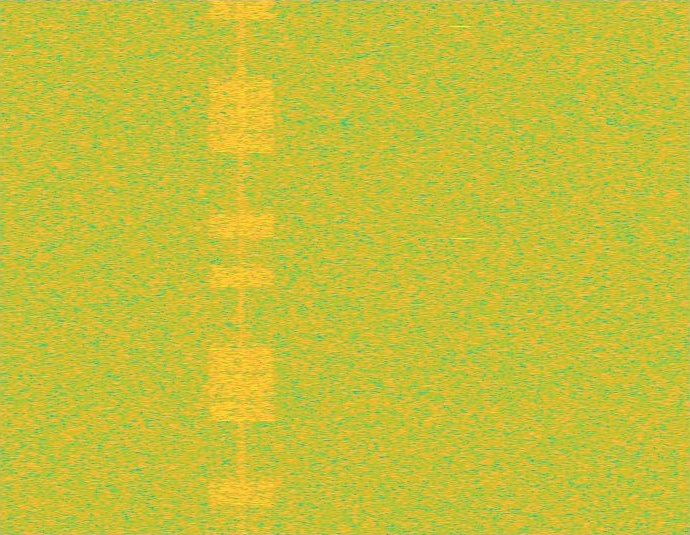DSSS: (237, 0, 246, 534)
LTE: (207, 0, 276, 534)
Radar: (455, 0, 469, 534)
